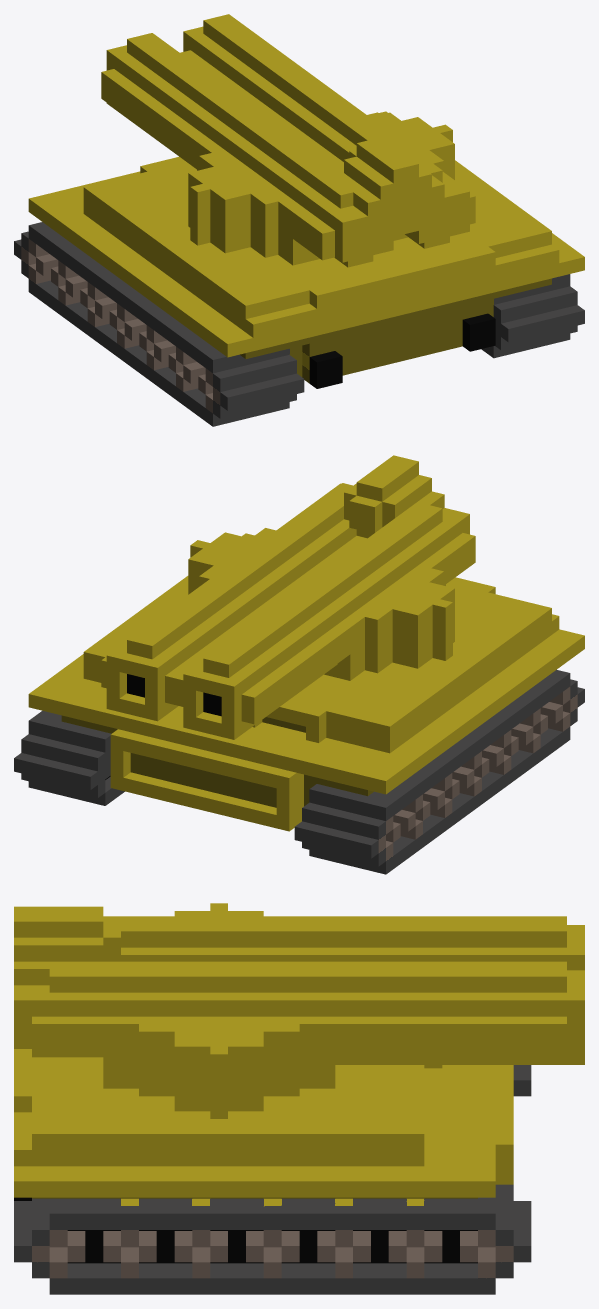
Rendered from tank_yellow.gltf.
3 renders of one model, top to bottom at view 1: azimuth 30°, elevation 25°; view 2: azimuth 150°, elevation 25°; view 3: azimuth 270°, elevation 25°, orthographic. The views are drawn at different scales.
Visible parts, largest first — view 1: test-Mesh; view 2: test-Mesh; view 3: test-Mesh.
Part boxes in pixels (bbox=[...]): test-Mesh: bbox=[14, 14, 584, 426]; test-Mesh: bbox=[14, 455, 584, 874]; test-Mesh: bbox=[14, 903, 584, 1294].
Size of the model in its own units: 28 by 17 by 32.
1 material, 1 textured.
